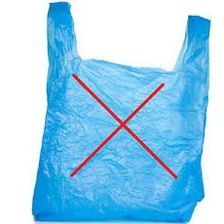plastic_bag: (27, 0, 215, 224)
